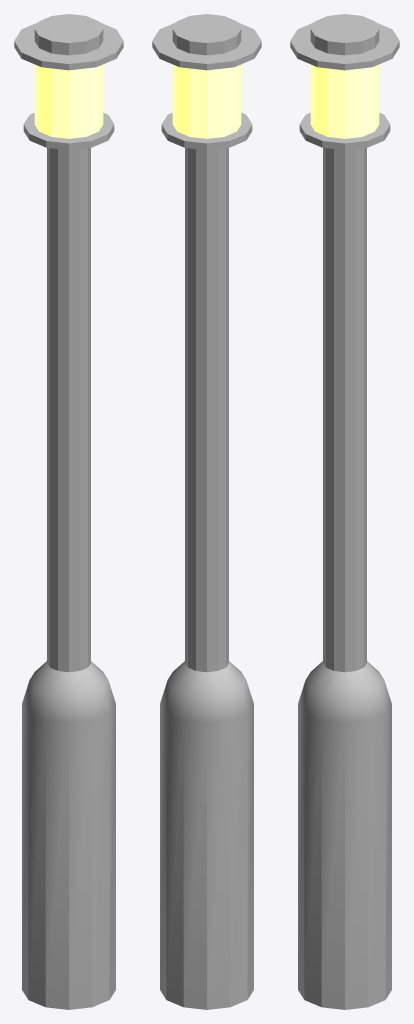
Rendered from LampPost.fbx.
3 views of the same model, side by side, from view 1: azimuth 30°, elevation 25°; view 2: azimuth 150°, elevation 25°; view 3: azimuth 330°, elevation 25° (orthographic).
Parts seen in each view (by area): view 1: Lamppost; view 2: Lamppost; view 3: Lamppost.
Part boxes in pixels (x1,y1,x2,y2): Lamppost: (14, 14, 123, 1009); Lamppost: (152, 14, 261, 1009); Lamppost: (290, 14, 399, 1009).
Bounding box in the file's own units: 0.3957 × 3.83 × 0.3957.
